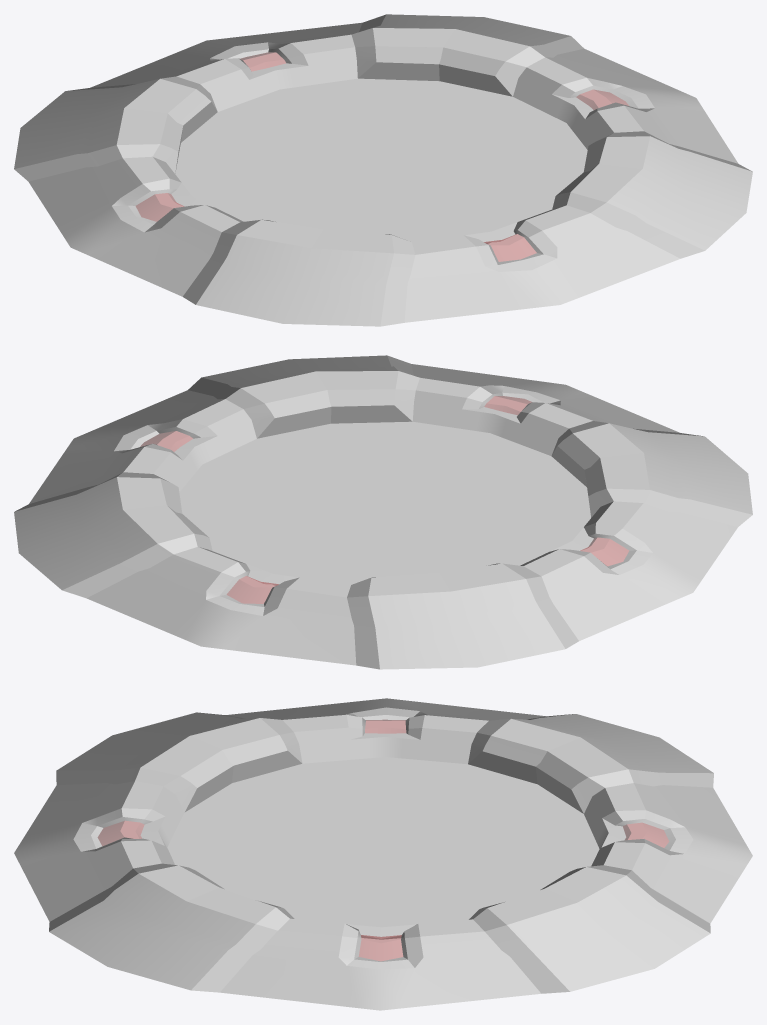
Rendered from PreassurePad.fbx.
3 views of the same model, one above another, from view 1: azimuth 30°, elevation 25°; view 2: azimuth 150°, elevation 25°; view 3: azimuth 270°, elevation 25° (orthographic). The views are drawn at different scales.
Visible parts, largest first — view 1: SM_Drone_Barrel; view 2: SM_Drone_Barrel; view 3: SM_Drone_Barrel.
Boxes of the visible parts, x1=… form: SM_Drone_Barrel: x1=14, y1=14, x2=752, y2=326; SM_Drone_Barrel: x1=14, y1=355, x2=752, y2=669; SM_Drone_Barrel: x1=14, y1=698, x2=752, y2=1010.
Size of the model in its own units: 758 by 39.78 by 758.
